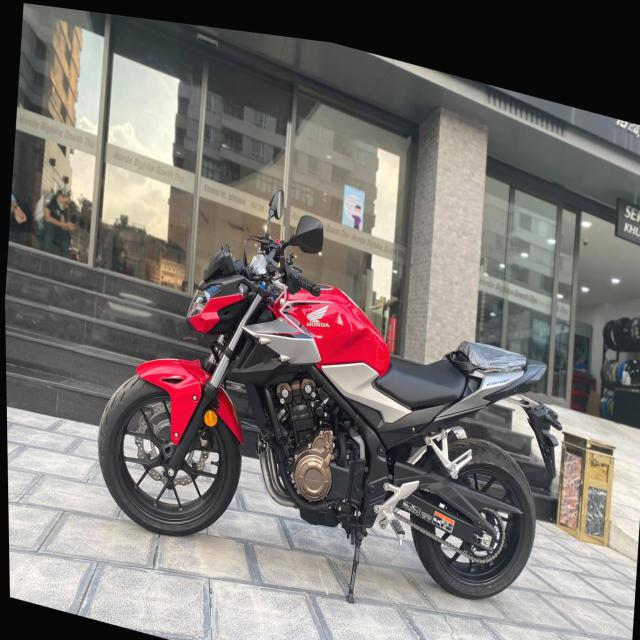CB500F: (88, 192, 576, 640)
